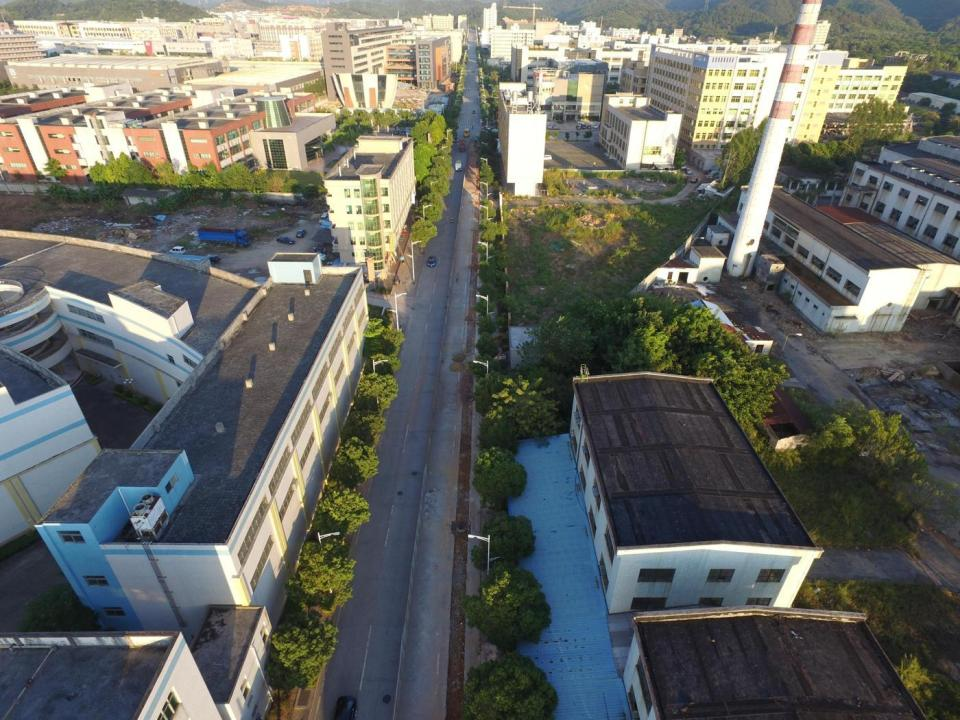bus: (463, 128, 470, 137), (472, 108, 476, 114)
car: (332, 695, 359, 720), (276, 236, 295, 245), (310, 253, 327, 262), (427, 256, 436, 267), (296, 229, 306, 238), (542, 154, 552, 161), (690, 176, 697, 184), (678, 163, 686, 170), (684, 168, 693, 174), (577, 120, 586, 124), (556, 120, 564, 124), (405, 130, 411, 135), (453, 137, 459, 142), (547, 124, 552, 130), (400, 130, 405, 135), (586, 125, 591, 130), (581, 124, 586, 129), (394, 130, 400, 134), (592, 124, 598, 128), (575, 126, 581, 130), (552, 124, 557, 128), (480, 120, 484, 124), (466, 86, 470, 89)
truck: (197, 226, 252, 248), (458, 139, 466, 152), (455, 160, 462, 171)
van: (169, 245, 186, 255), (206, 254, 221, 264), (318, 212, 329, 225)
